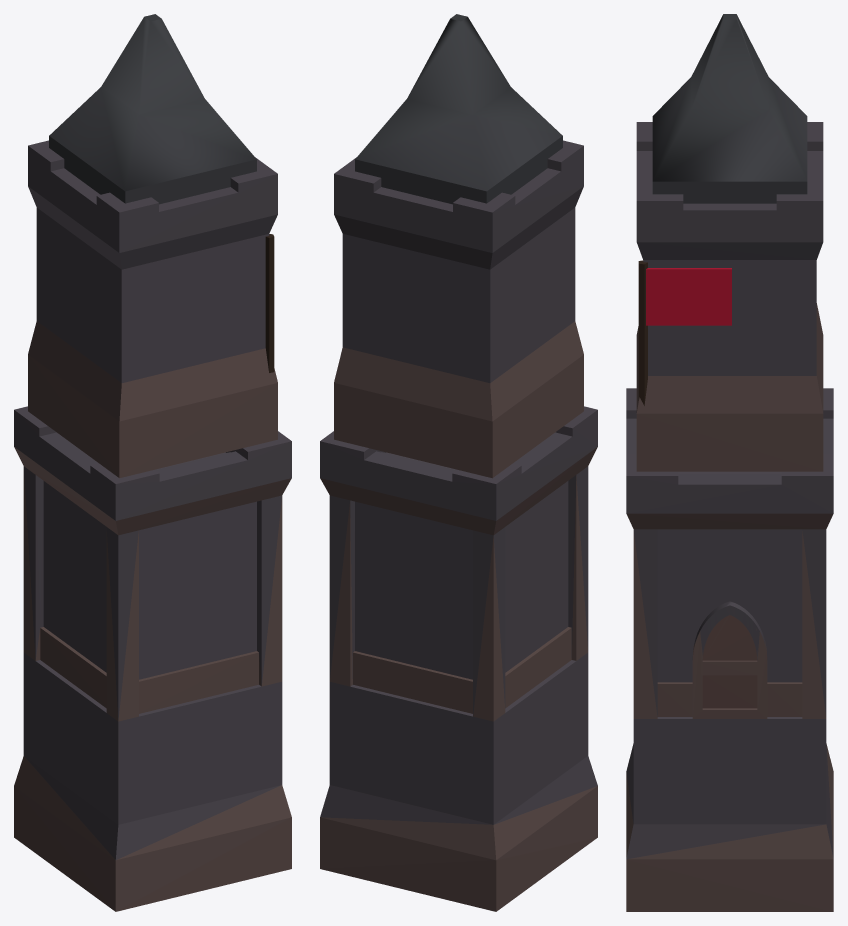
The model's file is ntower_l1.glb.
3 renders of one model, left to right at view 1: azimuth 30°, elevation 25°; view 2: azimuth 150°, elevation 25°; view 3: azimuth 270°, elevation 25°, orthographic.
Visible parts, largest first — view 1: ntower_l1; view 2: ntower_l1; view 3: ntower_l1.
Part boxes in pixels (x1=…): ntower_l1: x1=14, y1=14, x2=291, y2=911; ntower_l1: x1=320, y1=14, x2=597, y2=911; ntower_l1: x1=626, y1=14, x2=833, y2=911.
Size of the model in its own units: 1.6 by 7.25 by 1.6.
